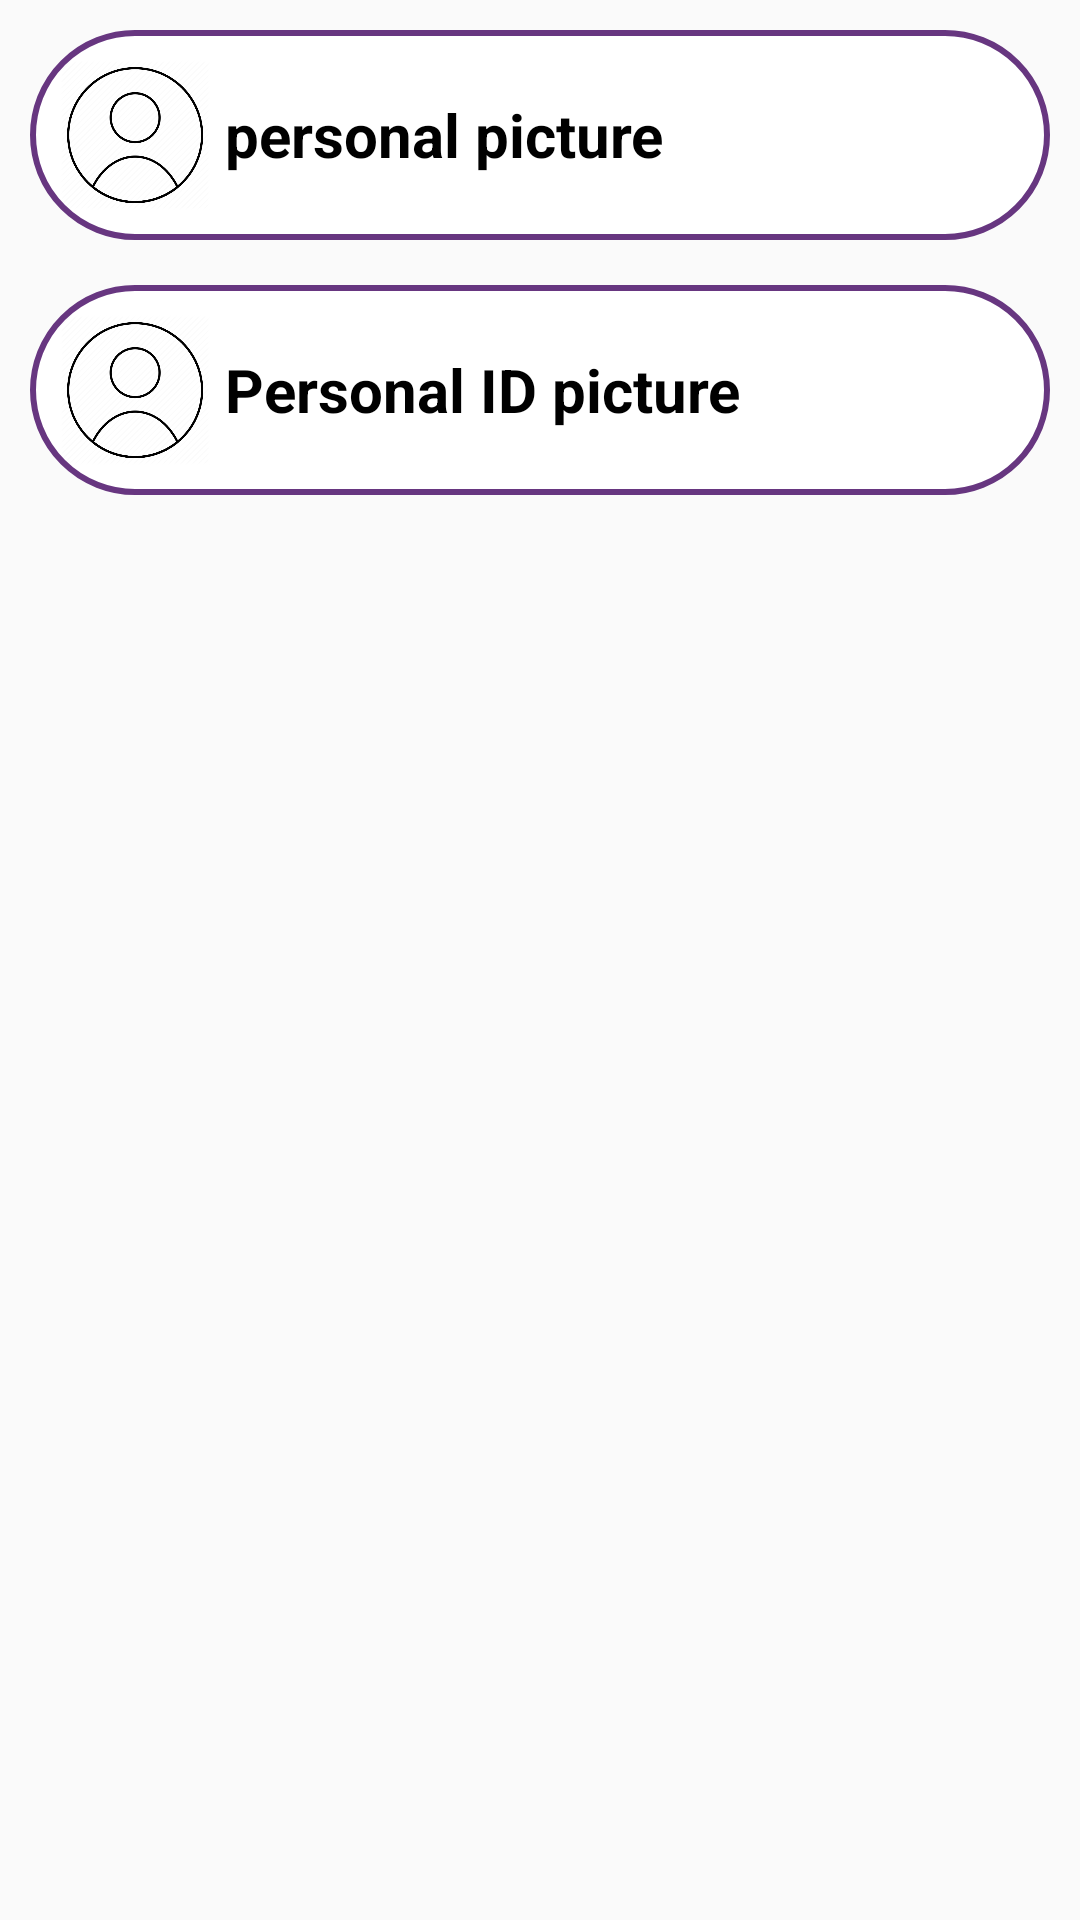

Screen size 1080px×1920px. Icon name, then its box in pixels as (x1, y1, x2, y2):
profile: (67, 67, 203, 203), (67, 322, 203, 458)
